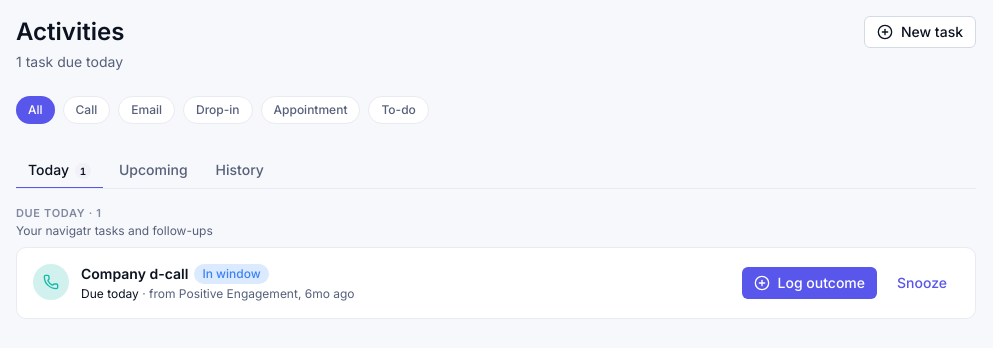
it: ActivitiesPage / shared type filter (above tabs) › shows a clear-filter empty state when the filter matches nothing, and restores on clear
Click the button "Email".
click(147, 110)  # box [118,96,175,124]
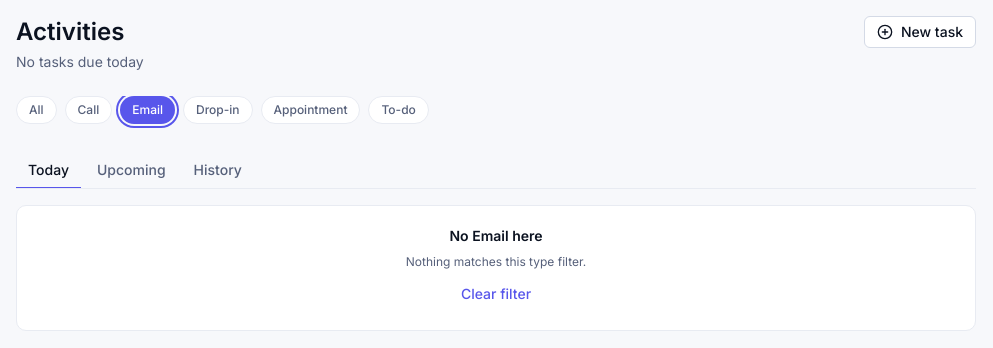
Check: the text "No Email here" is shown, box [450,226,543,246]
Check: the text "Company d-call" is gone
Click the button "Clear filter".
click(496, 294)  # box [449,278,543,310]
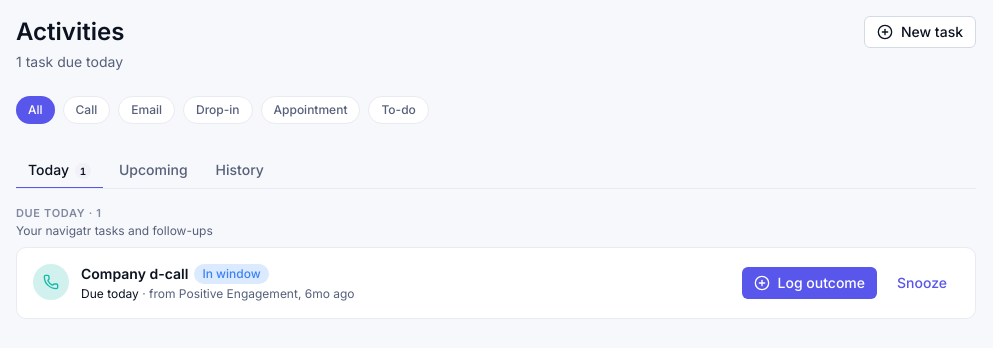
Check: the text "Company d-call" is shown, box [81,264,188,284]
